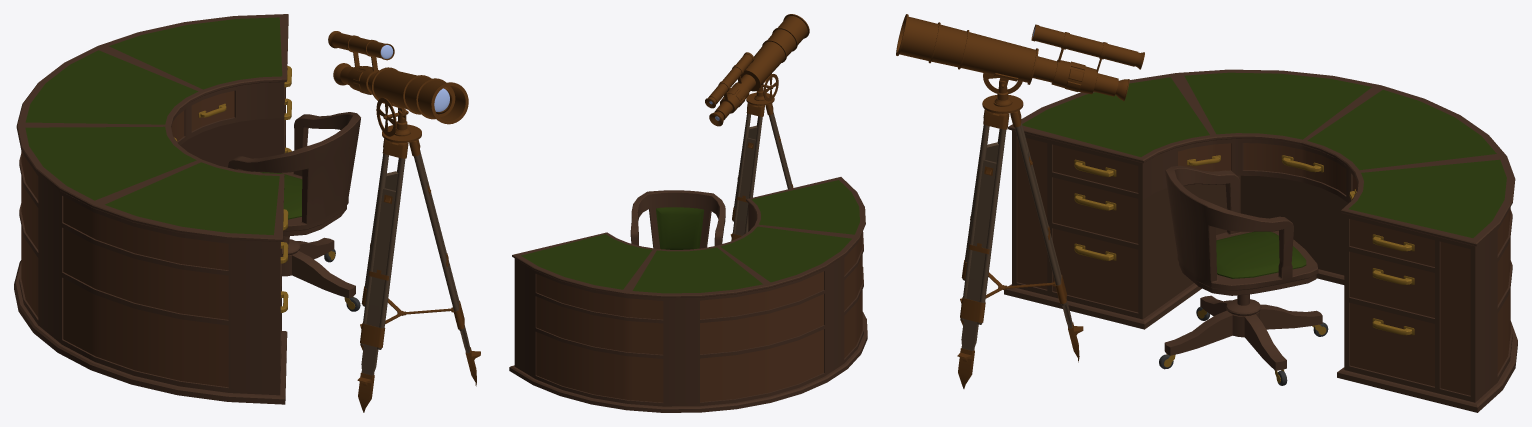
Rendered from desk_and_stuff.glb.
3 renders of one model, left to right at view 1: azimuth 30°, elevation 25°; view 2: azimuth 150°, elevation 25°; view 3: azimuth 270°, elevation 25°, orthographic. The views are drawn at different scales.
Parts seen in each view (by area): view 1: desk, Cylinder.003, CHAIR; view 2: desk, Cylinder.003, CHAIR; view 3: desk, Cylinder.003, CHAIR.
Part boxes in pixels (x1=…): desk: x1=14, y1=14, x2=291, y2=404; Cylinder.003: x1=328, y1=31, x2=480, y2=412; CHAIR: x1=228, y1=112, x2=360, y2=311; desk: x1=509, y1=177, x2=867, y2=412; Cylinder.003: x1=705, y1=14, x2=809, y2=240; CHAIR: x1=630, y1=190, x2=725, y2=249; desk: x1=1004, y1=69, x2=1517, y2=412; Cylinder.003: x1=896, y1=14, x2=1144, y2=388; CHAIR: x1=1159, y1=165, x2=1328, y2=385.
Size of the model in its own units: 2.16 by 1.97 by 3.21.
